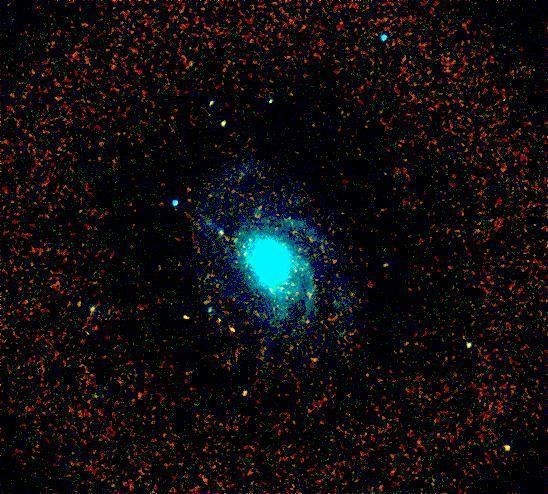star: (62, 289, 92, 319)
